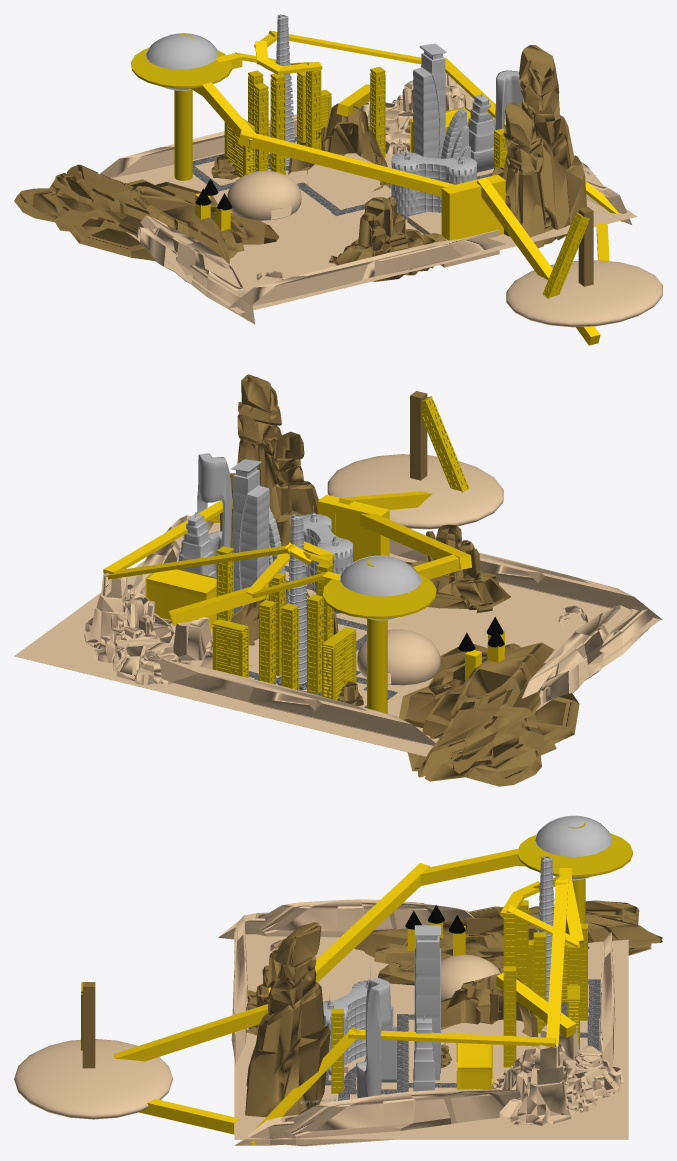
Rendered from Bolt_City_V2.gltf.
3 views of the same model, one above another, from view 1: azimuth 30°, elevation 25°; view 2: azimuth 150°, elevation 25°; view 3: azimuth 270°, elevation 25° (orthographic). The views are drawn at different scales.
Parts seen in each view (by area): view 1: pCube1, Rock_6, Rock_3, pasted__pSphere1 (×2), pasted__pasted__pCube2 (×6), pasted__Rock_11, pasted__pCube2 (×3), pasted__Rock_12, Rock_5, PM3D_Cube3D1_2, pasted__pasted__pasted__pasted__pCube3, pasted__pasted__pasted__pCube2 (×3) (+16 smaller); view 2: Rock_6, pCube1, pasted__pSphere1 (×2), pasted__pasted__pCube2 (×7), Rock_1, pasted__pasted__pasted__pCube2 (×5), Rock_3, Rock_11, pasted__Rock_12, pasted__pCube2 (×2), pasted__Rock_11, PM3D_Cube3D1_2 (+14 smaller); view 3: pCube1, pasted__pSphere1 (×2), Rock_3, Rock_12, Rock_1, Rock_6, pasted__pasted__pasted__pCube2 (×6), pasted__pasted__pCube2 (×7), pasted__Rock_12, Rock_2, PM3D_Cube3D1_2, pasted__pasted__pasted__pasted__pCube3 (+18 smaller).
Part boxes in pixels (x1=…): pCube1: x1=110, y1=87, x2=636, y2=313; Rock_6: x1=14, y1=164, x2=279, y2=264; Rock_3: x1=490, y1=45, x2=586, y2=248; pasted__pSphere1 (×2): x1=145, y1=33, x2=662, y2=327; pasted__pasted__pCube2 (×6): x1=224, y1=70, x2=589, y2=298; pasted__Rock_11: x1=228, y1=236, x2=505, y2=307; pasted__pCube2 (×3): x1=253, y1=83, x2=505, y2=267; pasted__Rock_12: x1=136, y1=215, x2=254, y2=324; Rock_5: x1=329, y1=196, x2=446, y2=281; PM3D_Cube3D1_2: x1=413, y1=43, x2=446, y2=158; pasted__pasted__pasted__pasted__pCube3: x1=238, y1=130, x2=454, y2=196; pasted__pasted__pasted__pCube2 (×3): x1=202, y1=66, x2=593, y2=286; Rock_6: x1=399, y1=642, x2=579, y2=786; pCube1: x1=14, y1=523, x2=660, y2=756; pasted__pSphere1 (×2): x1=327, y1=454, x2=503, y2=620; pasted__pasted__pCube2 (×7): x1=168, y1=396, x2=469, y2=700; Rock_1: x1=84, y1=573, x2=212, y2=684; pasted__pasted__pasted__pCube2 (×5): x1=145, y1=391, x2=460, y2=677; Rock_3: x1=220, y1=374, x2=318, y2=561; Rock_11: x1=154, y1=659, x2=435, y2=745; pasted__Rock_12: x1=521, y1=605, x2=652, y2=703; pasted__pCube2 (×2): x1=307, y1=494, x2=389, y2=693; pasted__Rock_11: x1=389, y1=539, x2=662, y2=619; PM3D_Cube3D1_2: x1=231, y1=459, x2=269, y2=613; pCube1: x1=234, y1=932, x2=628, y2=1139; pasted__pSphere1 (×2): x1=14, y1=815, x2=612, y2=1119; Rock_3: x1=245, y1=922, x2=330, y2=1117; Rock_12: x1=235, y1=1089, x2=520, y2=1146; Rock_1: x1=491, y1=1023, x2=623, y2=1125; Rock_6: x1=354, y1=900, x2=662, y2=985; pasted__pasted__pasted__pCube2 (×6): x1=82, y1=848, x2=579, y2=1093; pasted__pasted__pCube2 (×7): x1=496, y1=900, x2=587, y2=1037; pasted__Rock_12: x1=218, y1=899, x2=474, y2=939; Rock_2: x1=441, y1=973, x2=537, y2=1046; PM3D_Cube3D1_2: x1=414, y1=925, x2=440, y2=1080; pasted__pasted__pasted__pasted__pCube3: x1=315, y1=863, x2=429, y2=982.
Bounding box in the file's own units: 4984 × 1977 × 5622.
